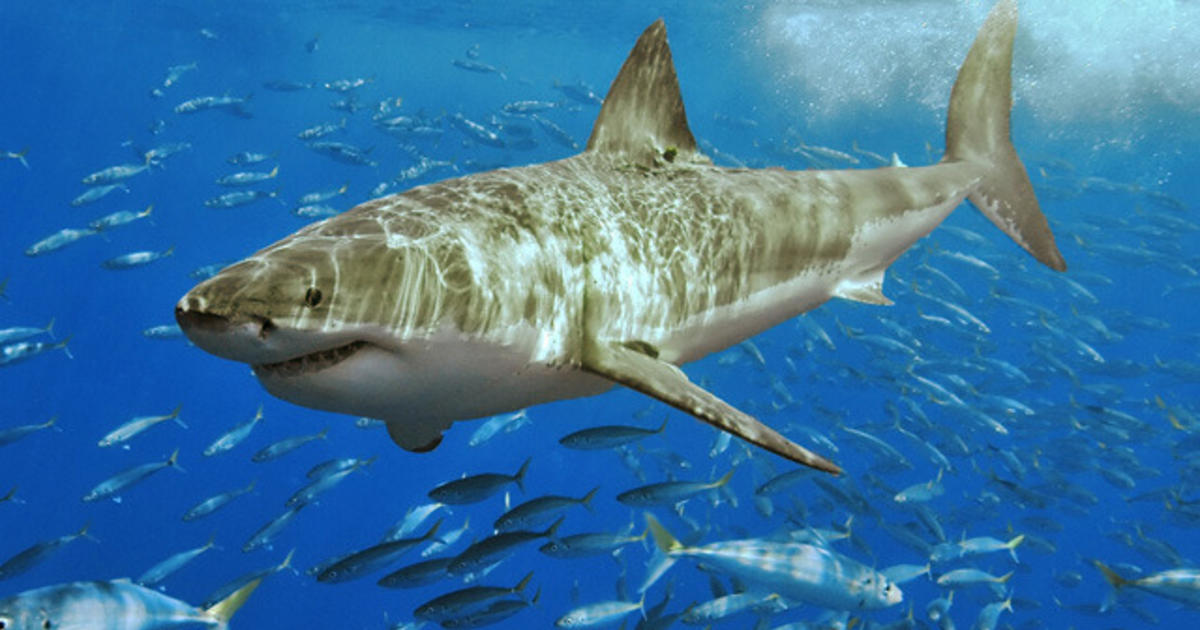shark: (167, 1, 1072, 506)
